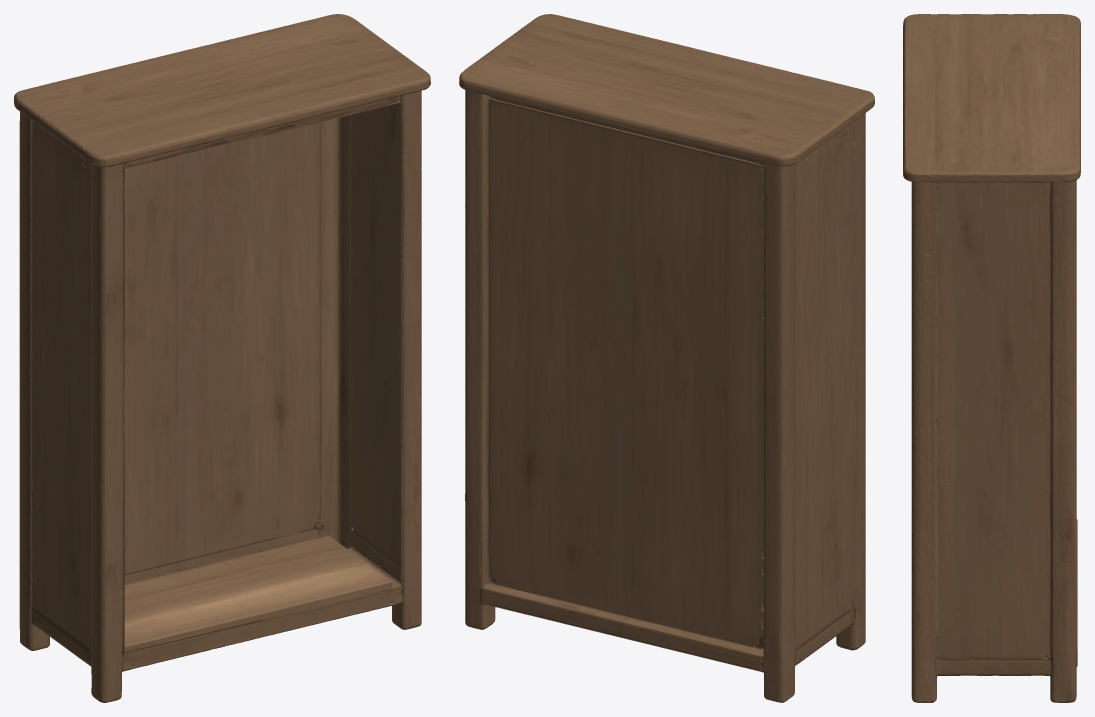
File: body.glb
3 renders of one model, left to right at view 1: azimuth 30°, elevation 25°; view 2: azimuth 150°, elevation 25°; view 3: azimuth 270°, elevation 25°, orthographic. The views are drawn at different scales.
Parts seen in each view (by area): view 1: source_surface_0; view 2: source_surface_0; view 3: source_surface_0.
Boxes of the visible parts, <box> form: source_surface_0: <box>14,14,430,702</box>; source_surface_0: <box>459,14,874,702</box>; source_surface_0: <box>903,14,1080,702</box>.
Bounding box in the file's own units: 1.8 × 2.8 × 0.8443.
Materials: 1 (1 with a texture image).
